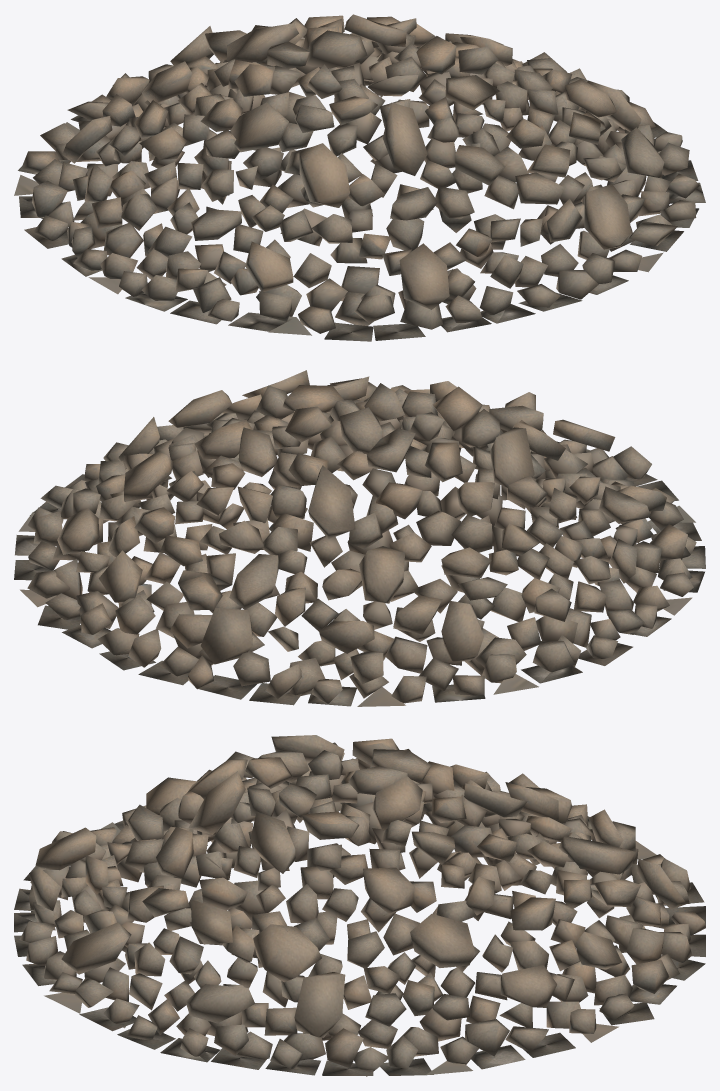
File: brick.glb
3 views of the same model, one above another, from view 1: azimuth 30°, elevation 25°; view 2: azimuth 150°, elevation 25°; view 3: azimuth 270°, elevation 25° (orthographic). The views are drawn at different scales.
Size of the model in its own units: 1 by 0.2803 by 1.
Materials: 1 (1 with a texture image).
